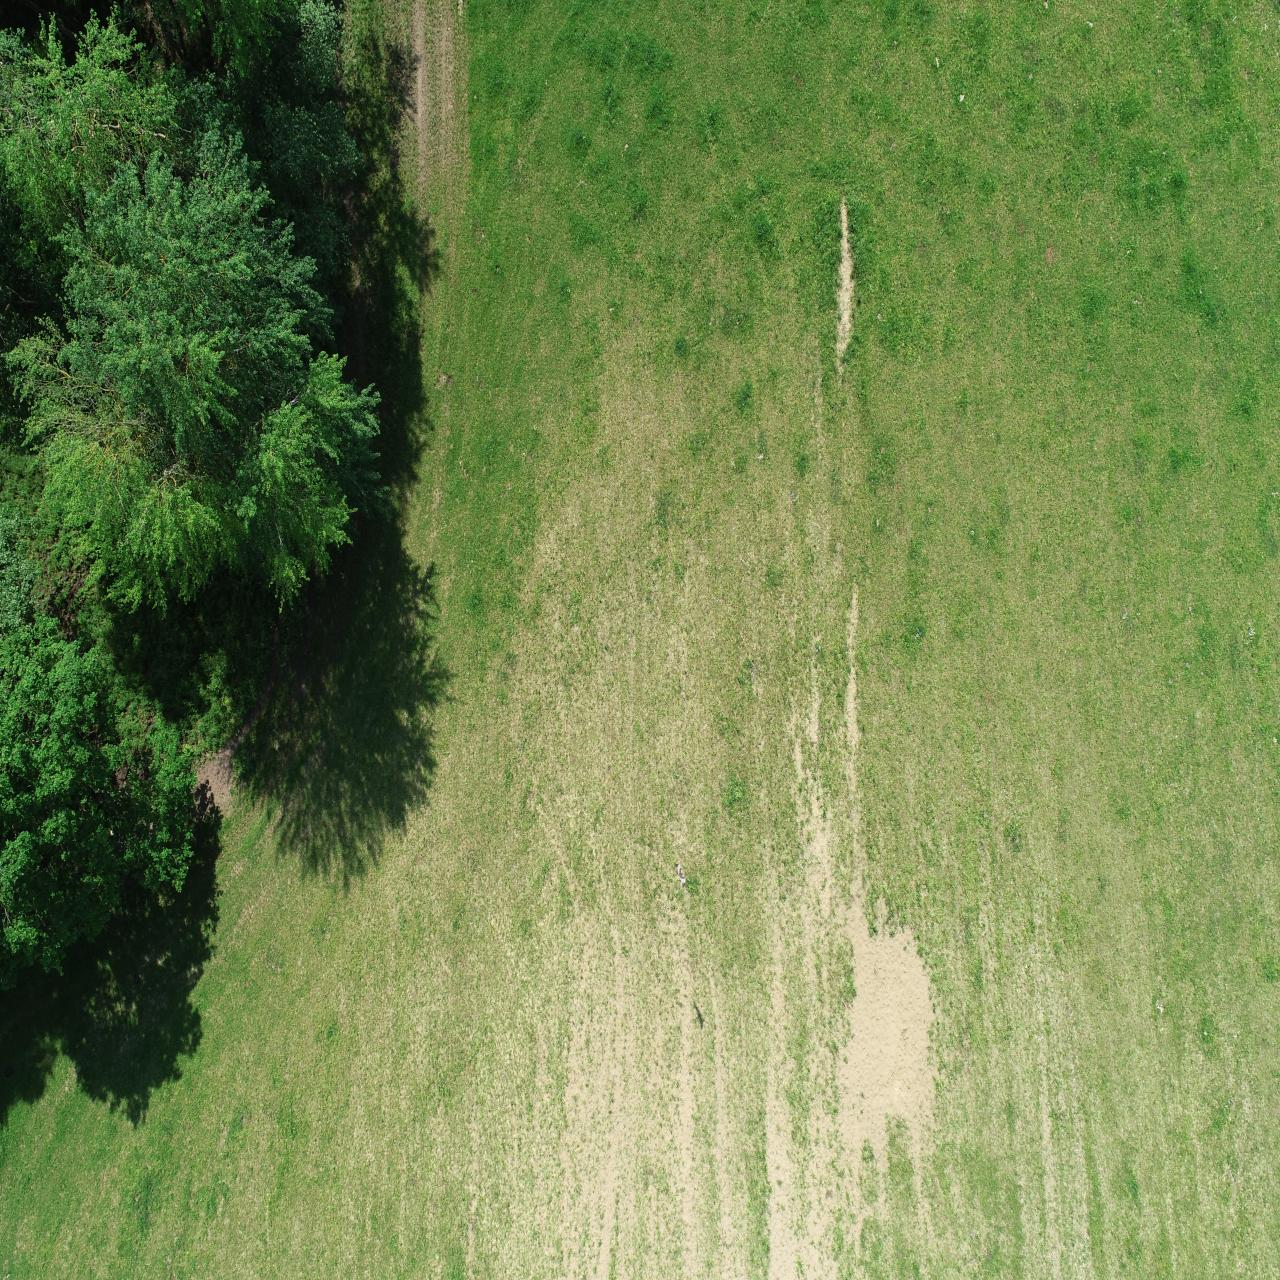cow: (1220, 696, 1247, 712)
